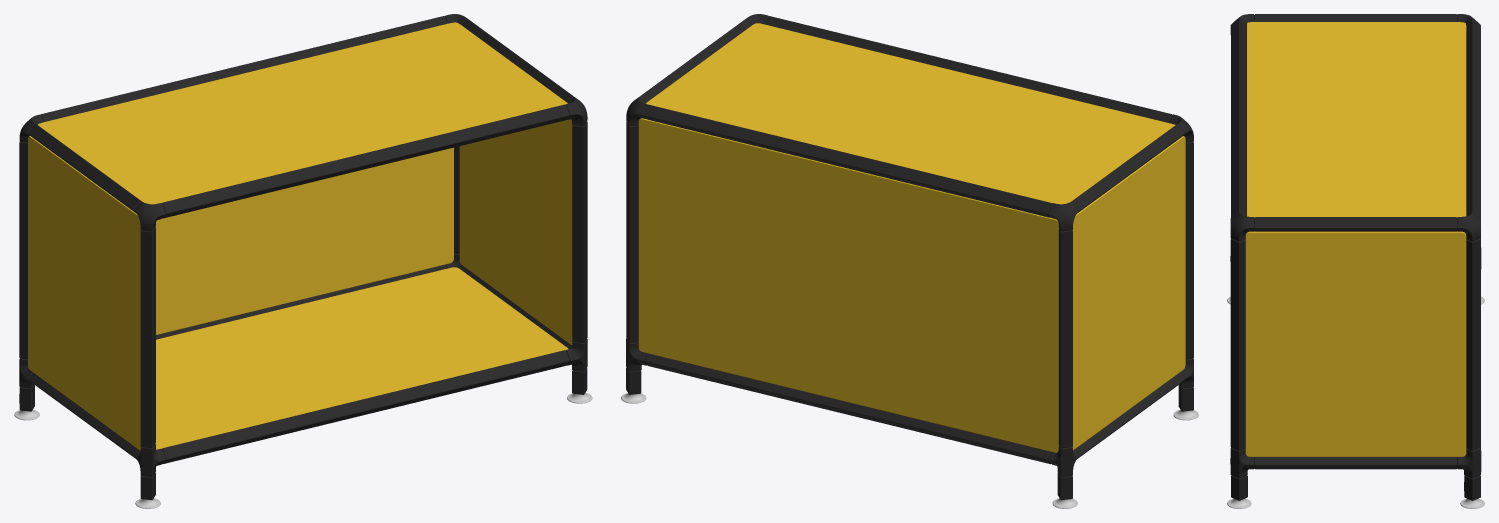
The picture shows the model from 3 angles, left to right: view 1: azimuth 30°, elevation 25°; view 2: azimuth 150°, elevation 25°; view 3: azimuth 270°, elevation 25°; orthographic projection. The views are drawn at different scales.
Visible parts, largest first — view 1: 729x329x374; view 2: 729x329x374; view 3: 729x329x374.
Boxes of the visible parts, x1,y1,x2,y2 form: 729x329x374: [14, 14, 592, 508]; 729x329x374: [621, 14, 1198, 508]; 729x329x374: [1227, 14, 1484, 508].
Bounding box in the file's own units: 0.8189 × 0.5133 × 0.4182.
